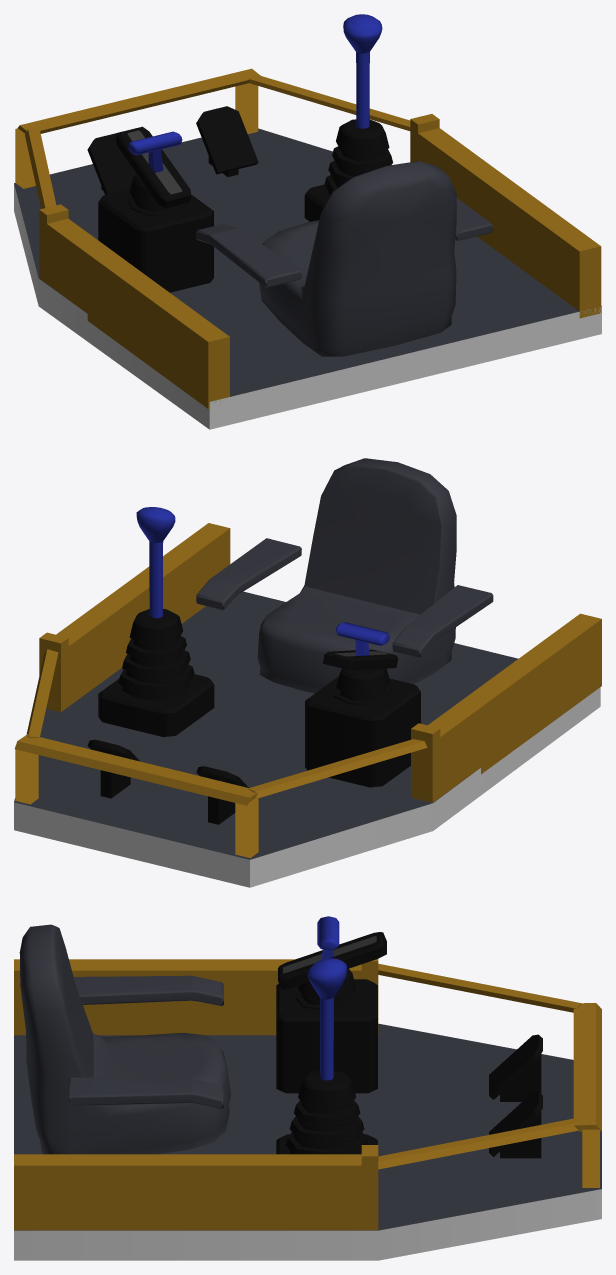
File: cabin (3).fbx
3 views of the same model, one above another, from view 1: azimuth 30°, elevation 25°; view 2: azimuth 150°, elevation 25°; view 3: azimuth 270°, elevation 25° (orthographic). The views are drawn at different scales.
Visible parts, largest first — view 1: base, skamsaxeluri, left_manipulator, moving_head_right, moving_head_left, right_manipulator; view 2: base, skamsaxeluri, left_manipulator, moving_head_right, right_manipulator, moving_head_left; view 3: base, skamsaxeluri, left_manipulator, moving_head_right, moving_head_left.
Part boxes in pixels (<box>): base: <box>14,68,601,429</box>; skamsaxeluri: <box>196,161,492,356</box>; left_manipulator: <box>98,126,213,292</box>; moving_head_right: <box>324,14,392,195</box>; moving_head_left: <box>128,131,182,172</box>; right_manipulator: <box>304,184,329,221</box>; base: <box>14,523,601,887</box>; skamsaxeluri: <box>196,458,493,693</box>; left_manipulator: <box>305,649,420,787</box>; moving_head_right: <box>118,507,194,700</box>; right_manipulator: <box>98,674,214,736</box>; moving_head_left: <box>335,622,389,655</box>; base: <box>14,959,601,1260</box>; skamsaxeluri: <box>19,924,230,1154</box>; left_manipulator: <box>276,932,386,1093</box>; moving_head_right: <box>285,958,368,1154</box>; moving_head_left: <box>317,916,339,959</box>.
Size of the model in its own units: 237 by 142 by 284.
